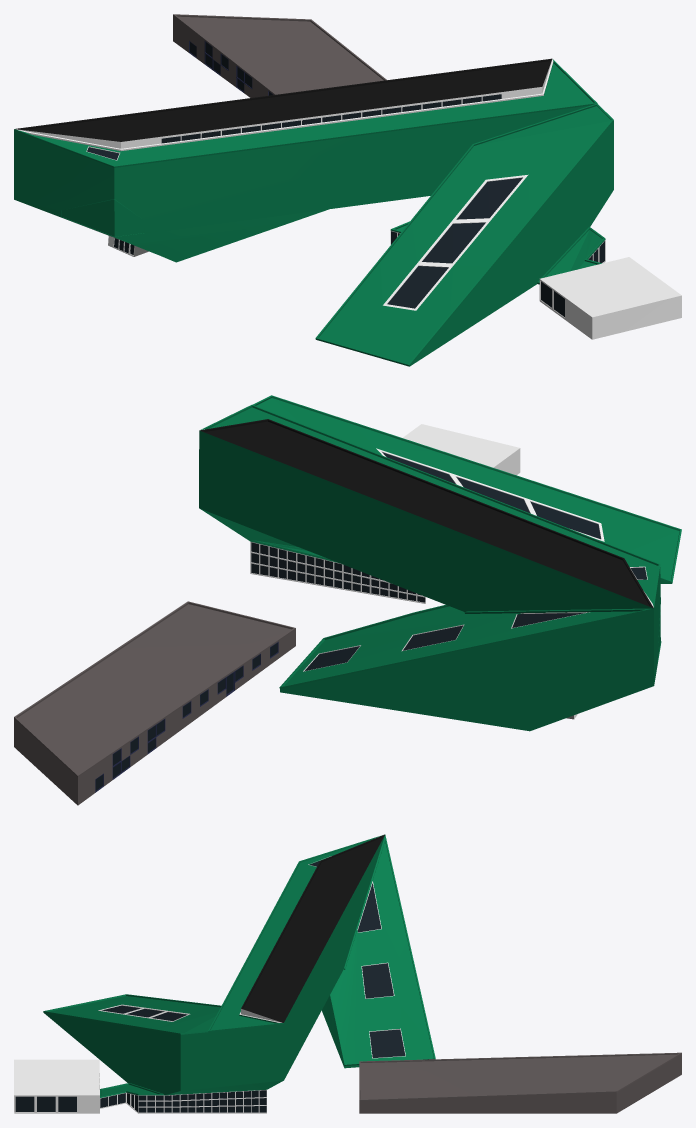
File: Linneausborg.fbx
3 renders of one model, top to bottom at view 1: azimuth 30°, elevation 25°; view 2: azimuth 150°, elevation 25°; view 3: azimuth 270°, elevation 25°, orthographic. The views are drawn at different scales.
Parts seen in each view (by area): view 1: Line001; view 2: Line001; view 3: Line001.
Boxes of the visible parts, x1,y1,x2,y2 form: Line001: [14, 14, 681, 366]; Line001: [14, 395, 681, 805]; Line001: [14, 834, 681, 1113].
Bounding box in the file's own units: 385 × 99.87 × 576.
